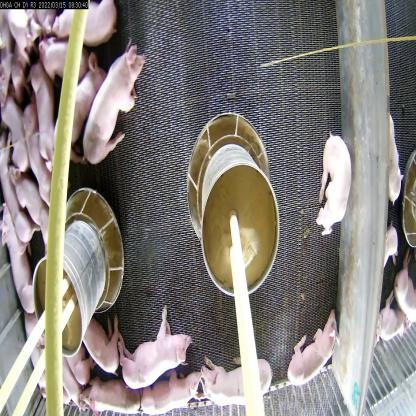Pig: (80, 38, 148, 168), (114, 307, 192, 391), (46, 58, 112, 144), (18, 79, 60, 210), (68, 296, 129, 378), (22, 59, 70, 158), (0, 210, 39, 325), (284, 310, 340, 388), (83, 347, 145, 415), (0, 135, 36, 250), (197, 363, 274, 415), (316, 128, 348, 240), (8, 168, 53, 240), (144, 368, 209, 416)
